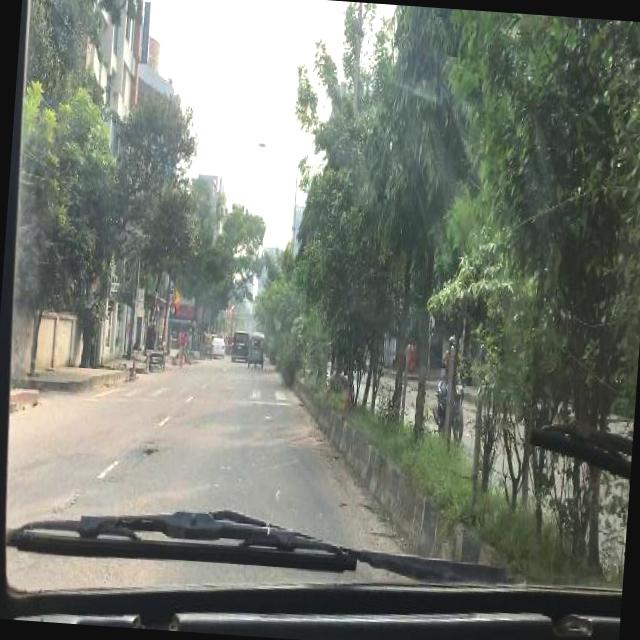car: (210, 340, 222, 354)
motorcycle: (432, 369, 467, 442), (246, 333, 264, 366), (201, 333, 210, 355)
truck: (230, 328, 248, 359)
